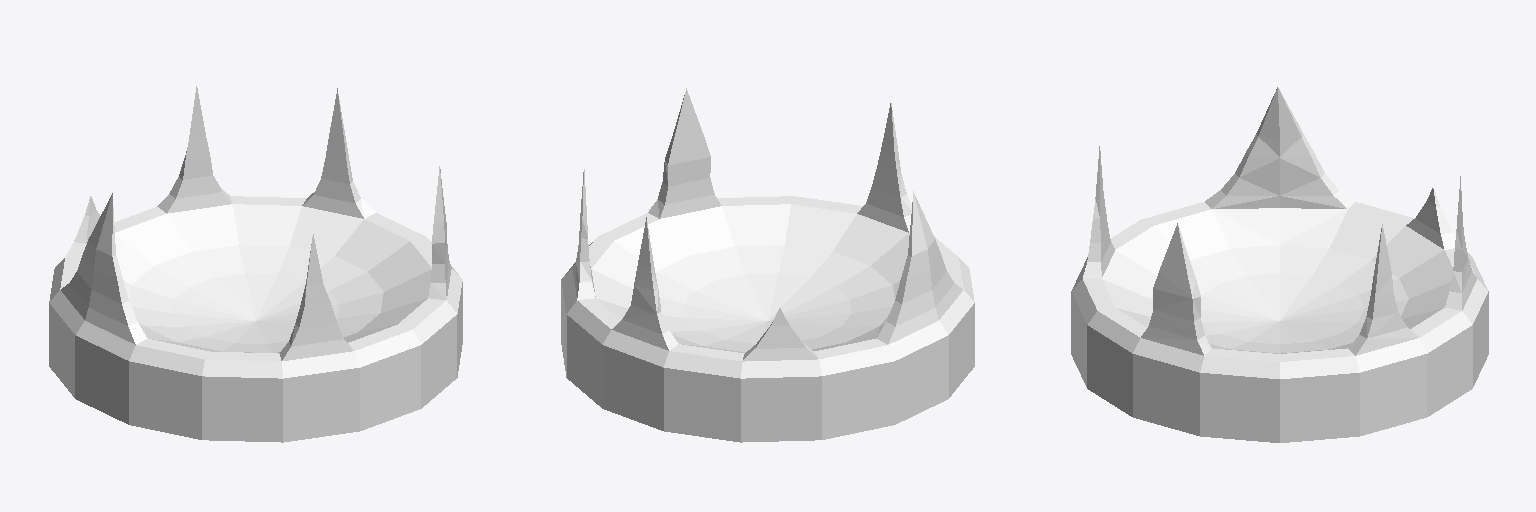
Rendered from spiss_ting001.obj.
3 views of the same model, side by side, from view 1: azimuth 30°, elevation 25°; view 2: azimuth 150°, elevation 25°; view 3: azimuth 270°, elevation 25° (orthographic).
Parts seen in each view (by area): view 1: Cylinder1; view 2: Cylinder1; view 3: Cylinder1.
Part boxes in pixels (left/top/right/bottom): Cylinder1: left=49, top=86, right=462, bottom=442; Cylinder1: left=561, top=88, right=974, bottom=442; Cylinder1: left=1071, top=87, right=1488, bottom=442.
Size of the model in its own units: 3.63 by 1.9 by 3.63.